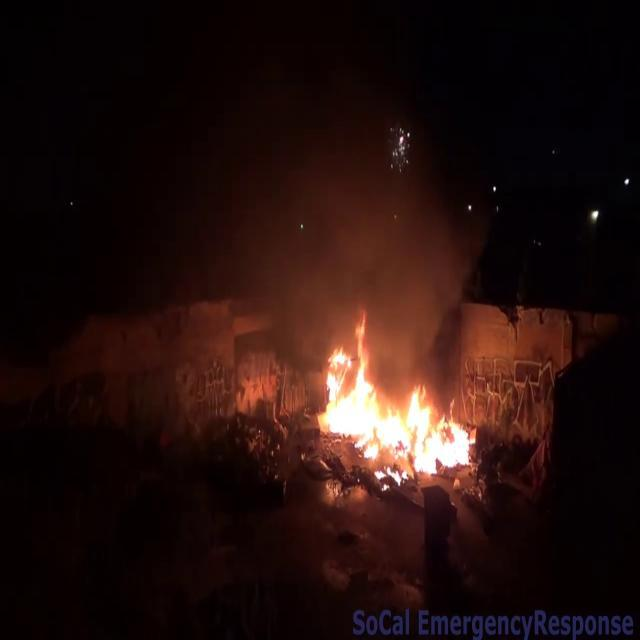Fire: (308, 325, 480, 477)
Smoke: (93, 25, 491, 372)
